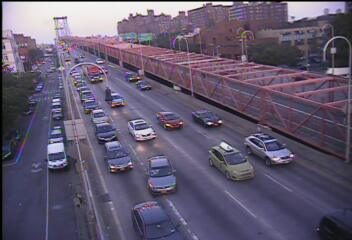neg: (52, 63, 80, 100), (291, 107, 314, 137), (282, 65, 304, 94), (173, 85, 194, 114), (71, 140, 92, 168), (29, 126, 50, 154), (127, 79, 147, 106), (264, 132, 284, 159), (175, 168, 194, 193), (132, 169, 150, 193), (182, 23, 200, 47), (208, 78, 225, 100), (227, 130, 243, 152), (104, 26, 120, 47), (247, 78, 262, 98), (134, 29, 149, 49), (57, 188, 72, 208), (251, 44, 265, 62), (218, 37, 231, 56)
